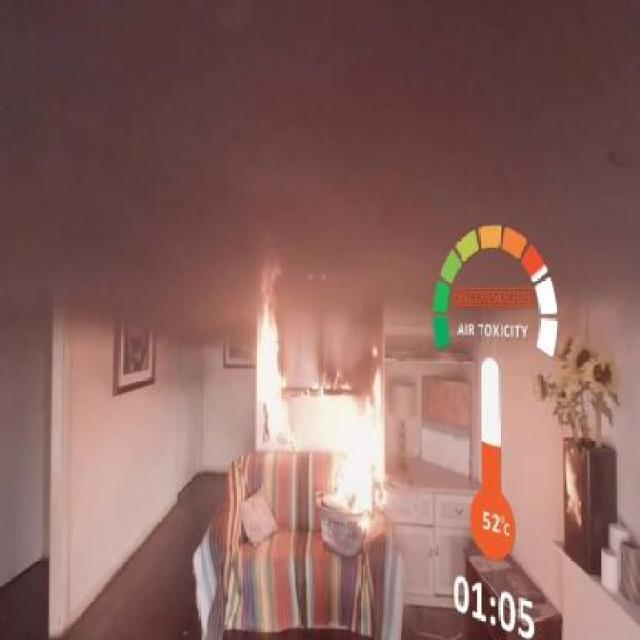fire: (318, 383, 392, 554), (246, 282, 292, 464)
smoke: (74, 34, 540, 248)
